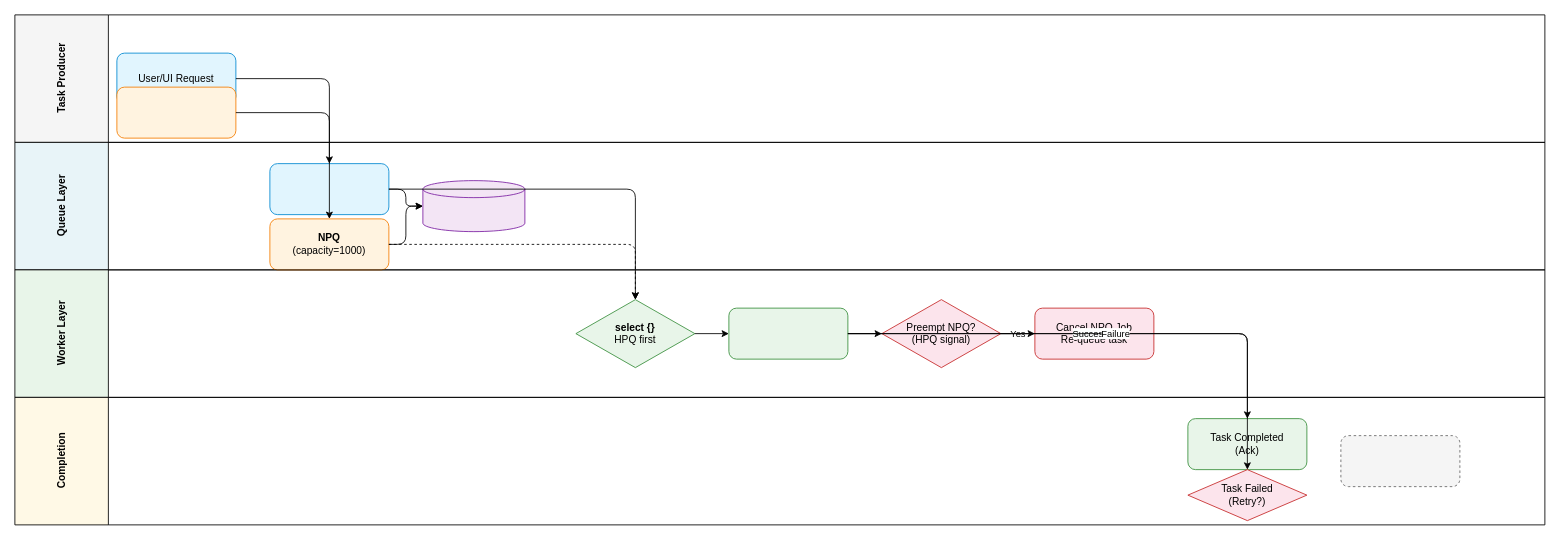
The diagram is 1560 pixels wide and 540 high, and some of its shapes have lost their labels. The shapes that lost their labels are listed below. From the top down, each one's centre as x and y in pixels, then its label:
At (176,112): "System/Batch Scan".
At (329,189): "HPQ (capacity=100)".
At (473,206): "Persist to PostgreSQL".
At (788,333): "Process Task (SupervisorJob)".
At (1400,461): "Watchdog (scan stuck)".
